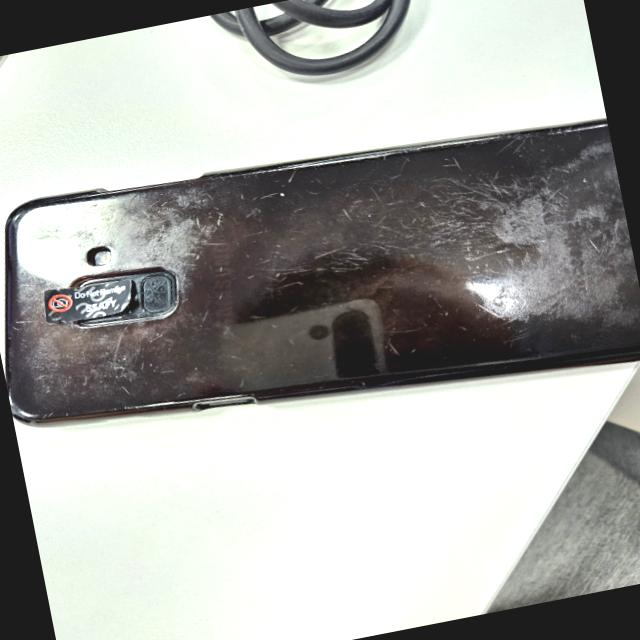phone: (0, 87, 640, 480)
removed_sticker: (39, 273, 139, 328)
